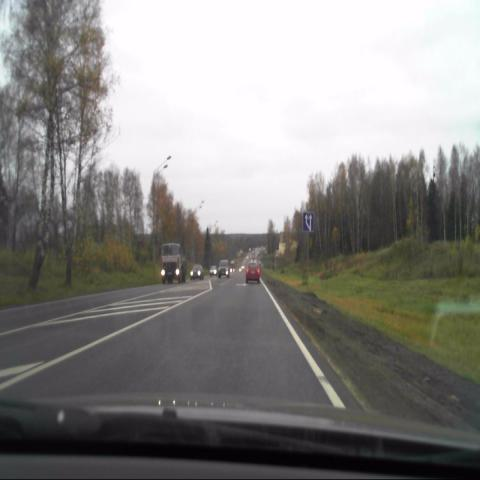5_15_3: (303, 211, 314, 233)
